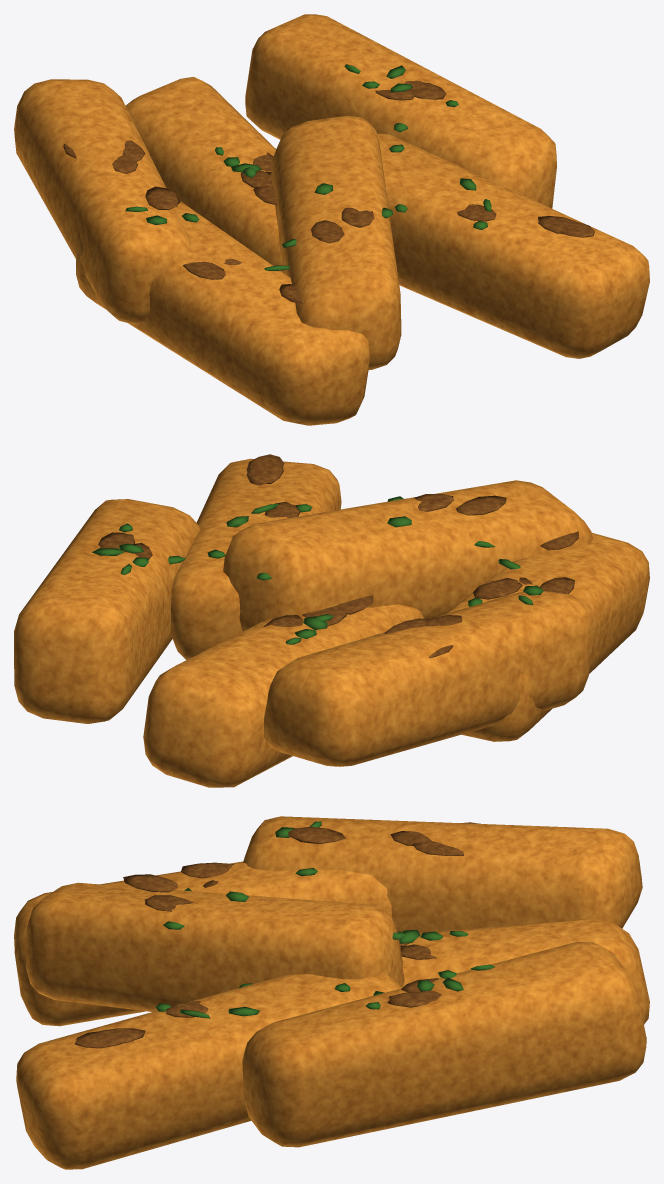
Rendered from roasted_carrots.glb.
3 views of the same model, one above another, from view 1: azimuth 30°, elevation 25°; view 2: azimuth 150°, elevation 25°; view 3: azimuth 270°, elevation 25° (orthographic). The views are drawn at different scales.
Parts seen in each view (by area): view 1: roasted_carrots; view 2: roasted_carrots; view 3: roasted_carrots.
Boxes of the visible parts, box(x1,y1,x2,y2) form: roasted_carrots: box(14, 14, 649, 425); roasted_carrots: box(14, 454, 649, 787); roasted_carrots: box(14, 816, 649, 1169).
Bounding box in the file's own units: 0.055 × 0.0193 × 0.0616.
1 material, 1 textured.
